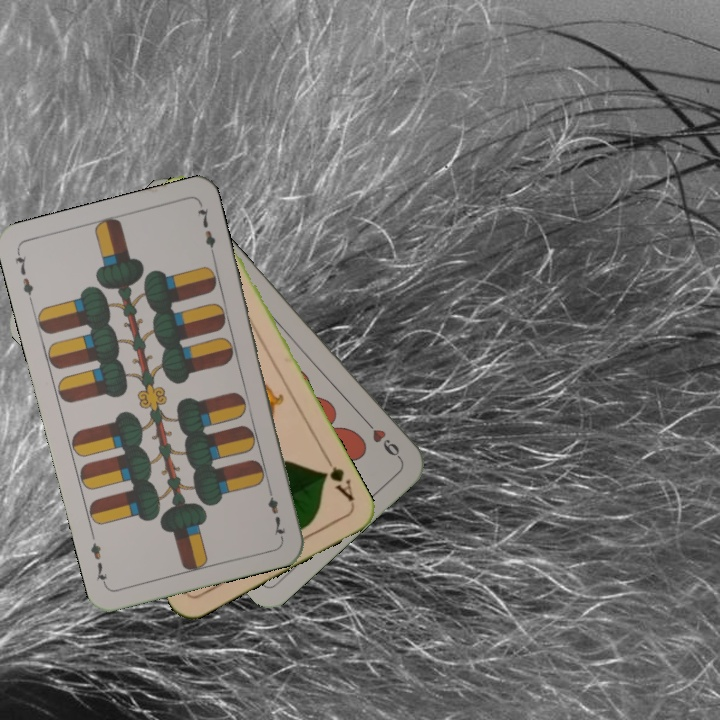E7: (11, 248, 36, 306), (264, 482, 288, 541)
GA: (318, 452, 357, 506)
H9: (359, 414, 404, 462)
